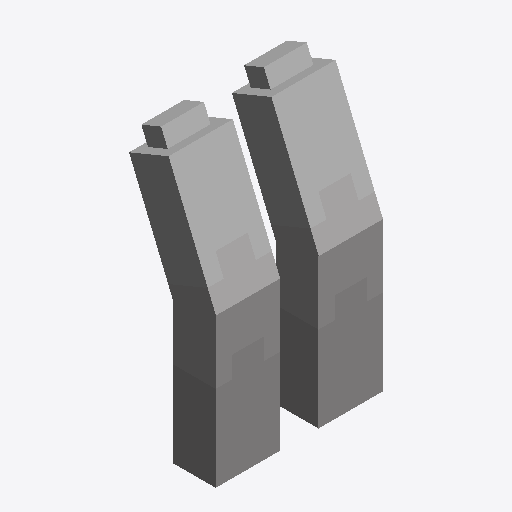
A Minecraft block model of 8 cuboids, rendered isometrically (azimuth 45°, elevation 35.3°) with the resource pack's own textures.
Visible parts, largest first — element 4, element 8, element 3, element 7, element 6, element 2, element 5, element 1.
Part boxes in pixels (left/top/right/bottom): element 4: left=173, top=279, right=279, bottom=487; element 8: left=276, top=219, right=382, bottom=428; element 3: left=146, top=168, right=279, bottom=314; element 7: left=248, top=109, right=382, bottom=255; element 6: left=232, top=57, right=349, bottom=151; element 2: left=129, top=117, right=246, bottom=210; element 5: left=244, top=41, right=312, bottom=89; element 1: left=142, top=100, right=209, bottom=148.
Bounding box in the file's own units: 7.8 × 12.84 × 4.06.